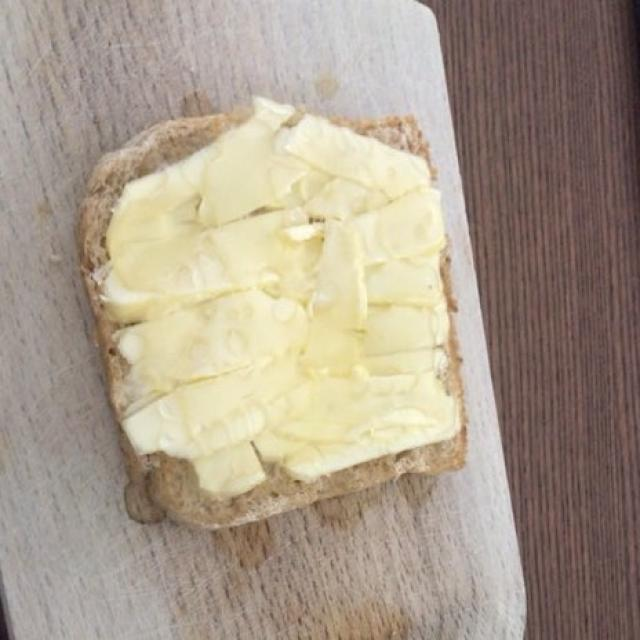bread-wholemeal: (96, 103, 456, 525)
butter: (97, 112, 454, 493)
